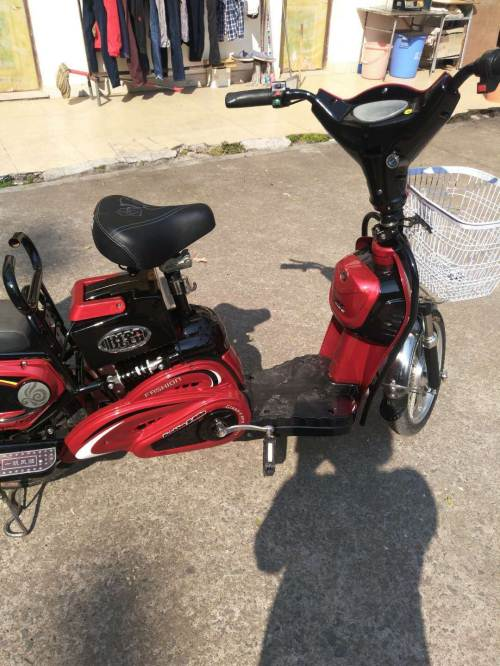电动车: (1, 45, 498, 531)
